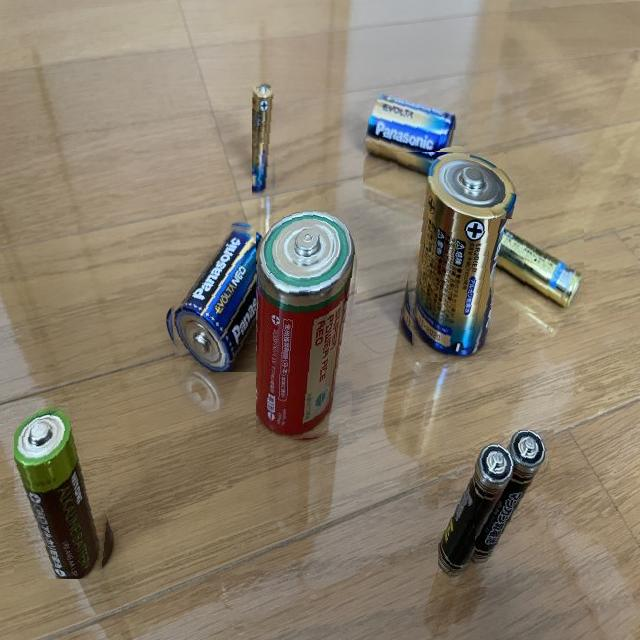battery: (398, 152, 520, 362), (256, 208, 361, 444), (14, 401, 118, 579), (164, 218, 278, 372), (438, 442, 516, 588), (476, 430, 556, 570), (363, 89, 470, 183), (488, 219, 584, 315), (252, 80, 286, 196)
